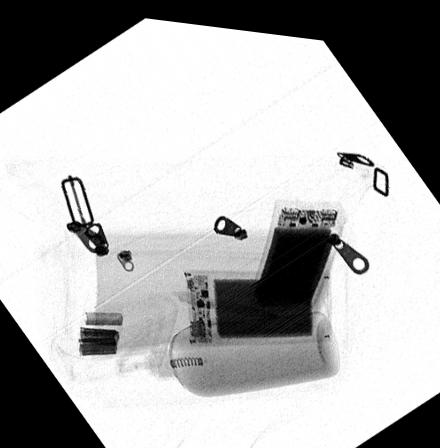Powerbank: (184, 260, 332, 339), (247, 191, 346, 304)
